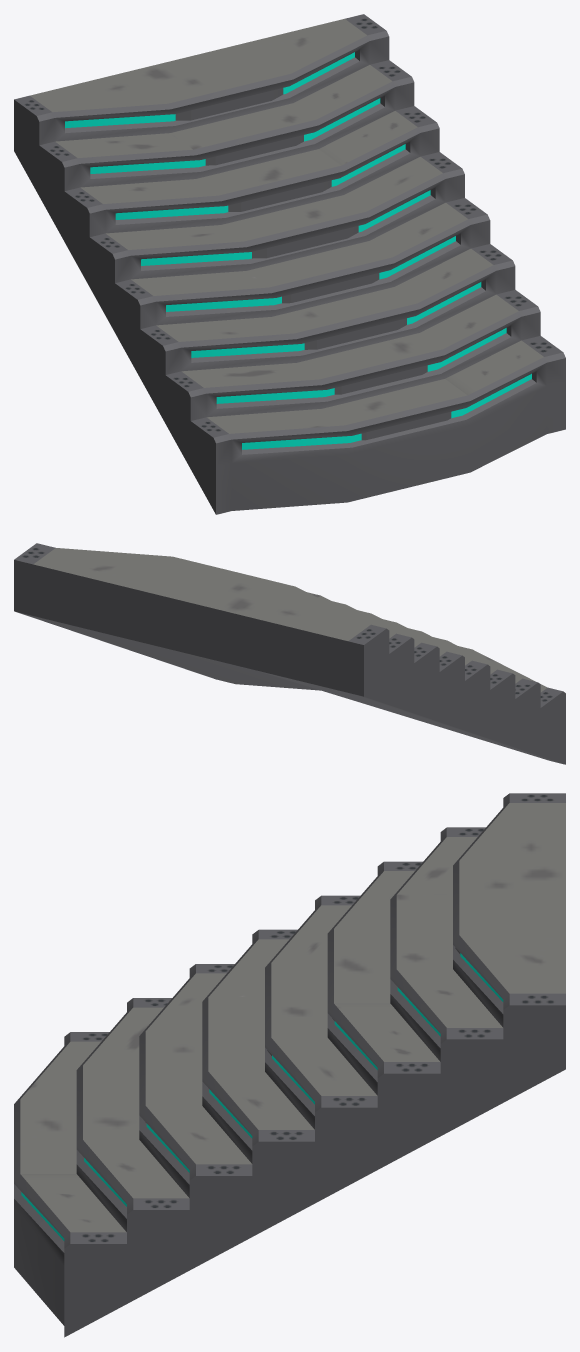
The model's file is SM_Bld_Stairs_02.fbx.
3 renders of one model, top to bottom at view 1: azimuth 30°, elevation 25°; view 2: azimuth 150°, elevation 25°; view 3: azimuth 270°, elevation 25°, orthographic. The views are drawn at different scales.
Parts seen in each view (by area): view 1: SM_Bld_Stairs_02; view 2: SM_Bld_Stairs_02; view 3: SM_Bld_Stairs_02.
Part boxes in pixels (bbox=[...]): SM_Bld_Stairs_02: bbox=[14, 14, 565, 514]; SM_Bld_Stairs_02: bbox=[14, 543, 565, 764]; SM_Bld_Stairs_02: bbox=[14, 793, 565, 1337].
Bounding box in the file's own units: 250 × 183 × 275.
